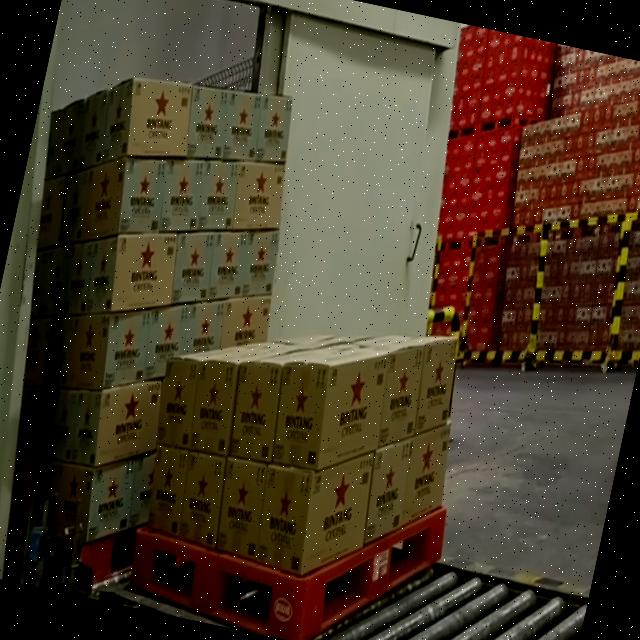pallet: (0, 40, 323, 624), (113, 280, 489, 640)
